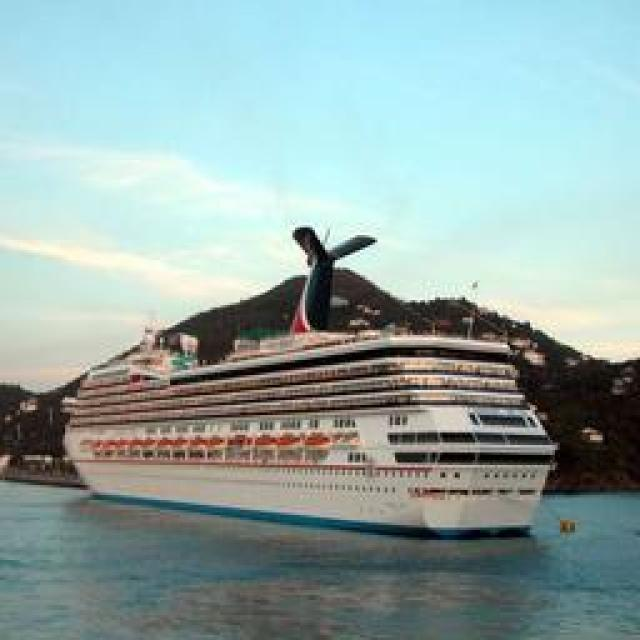CIV_Ship: (59, 265, 552, 543)
